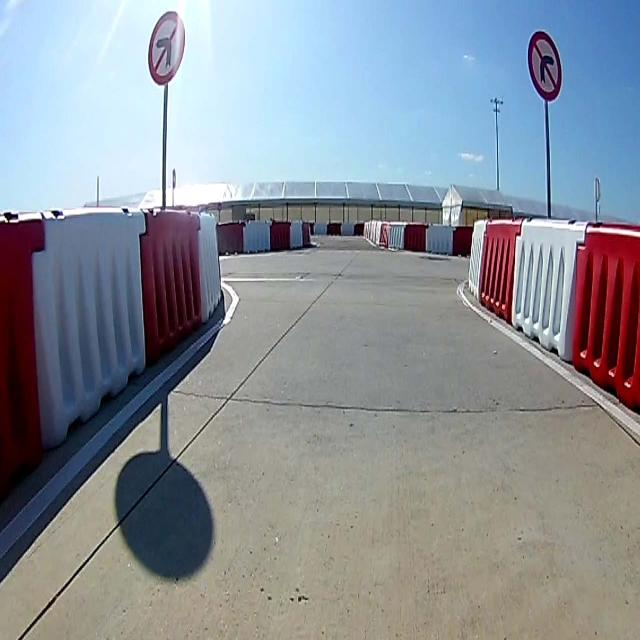sagadonulmez: (527, 33, 563, 103)
soladonulmez: (146, 12, 186, 85)
